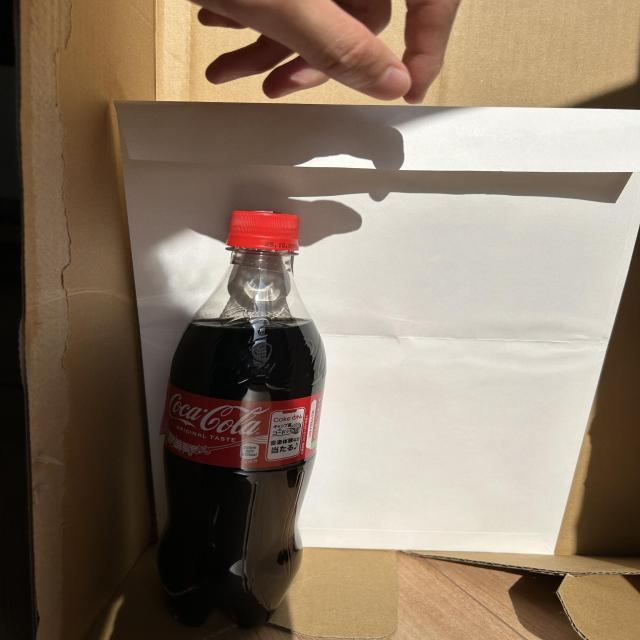high: (158, 211, 326, 627)
